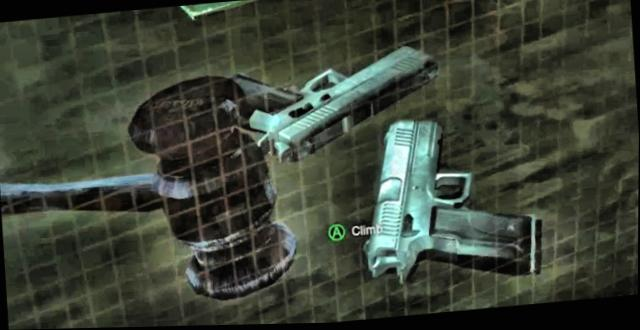pistol: (307, 110, 553, 302)
